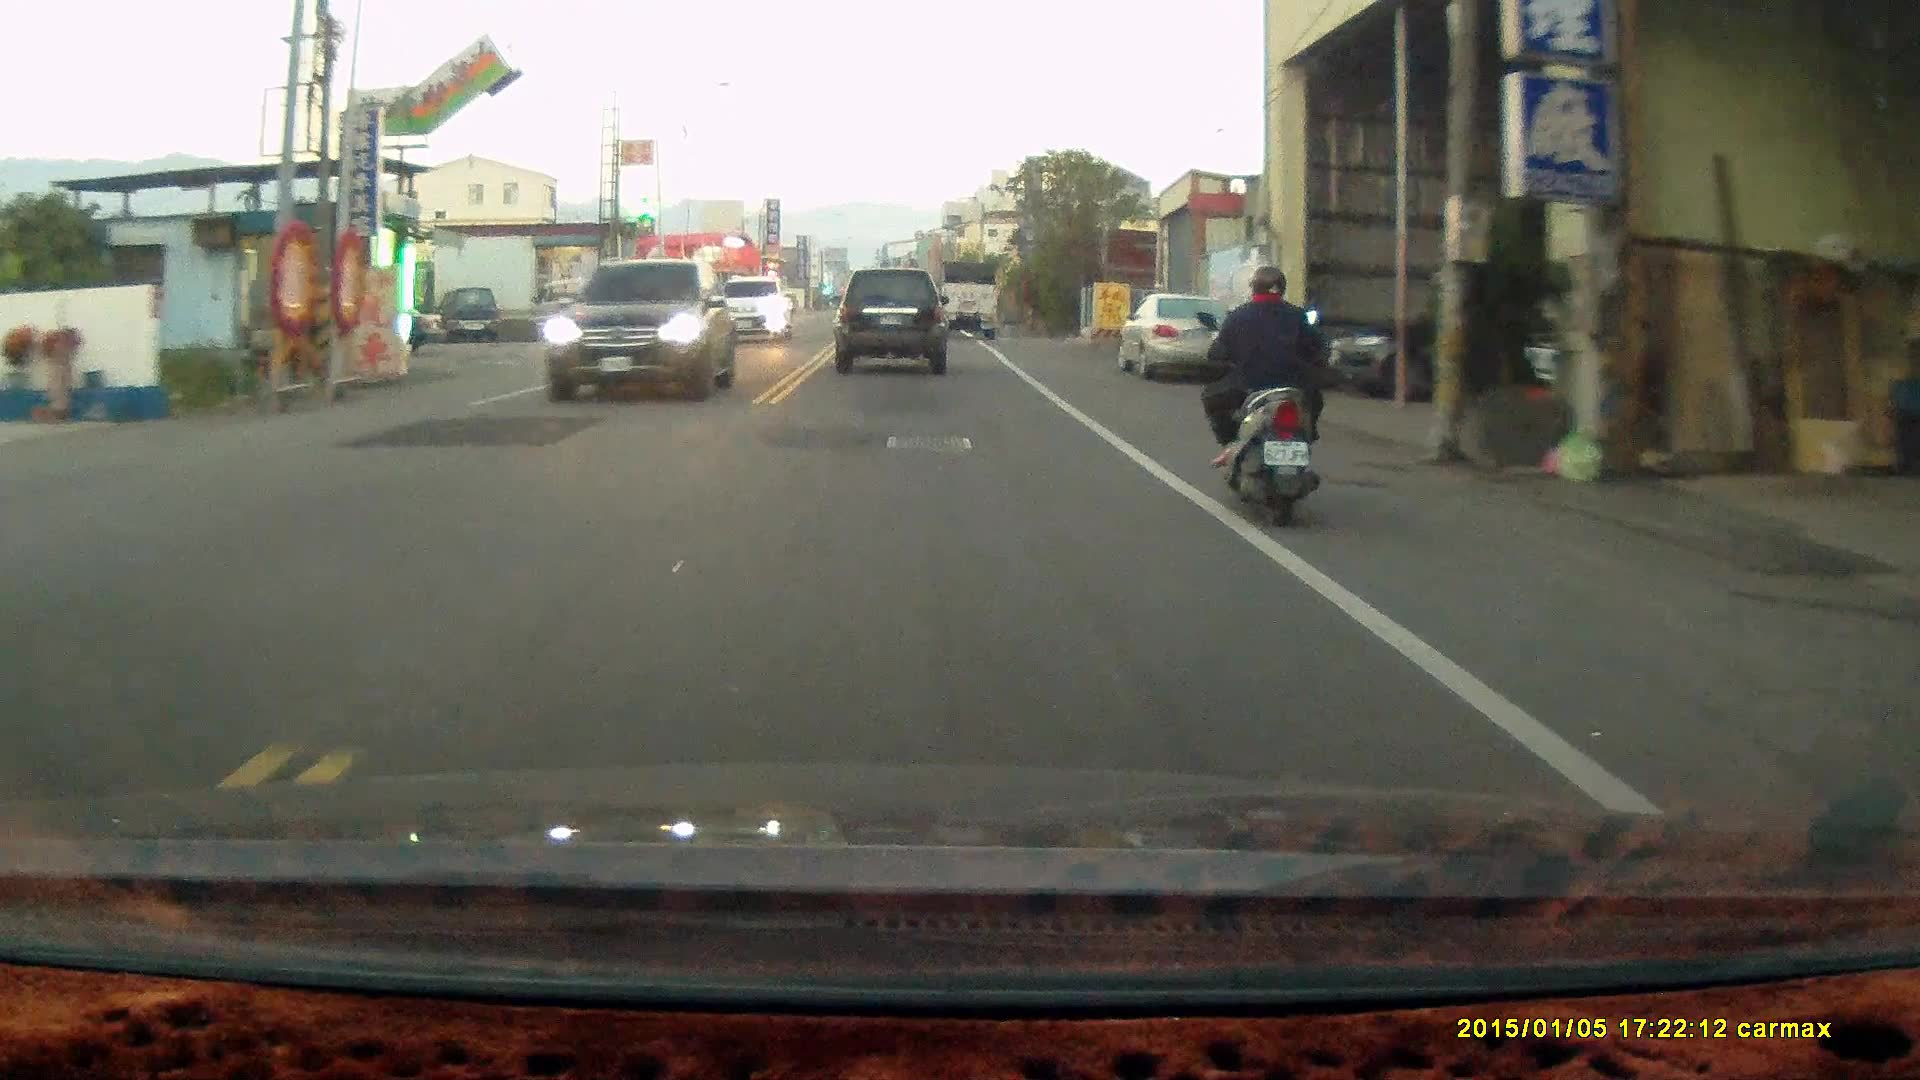rider: (1194, 263, 1326, 529)
vehicle: (538, 261, 742, 400), (1321, 297, 1526, 405), (835, 268, 952, 376), (1121, 290, 1240, 381), (536, 278, 629, 348), (715, 277, 796, 349), (930, 263, 1001, 342), (445, 286, 499, 344)
